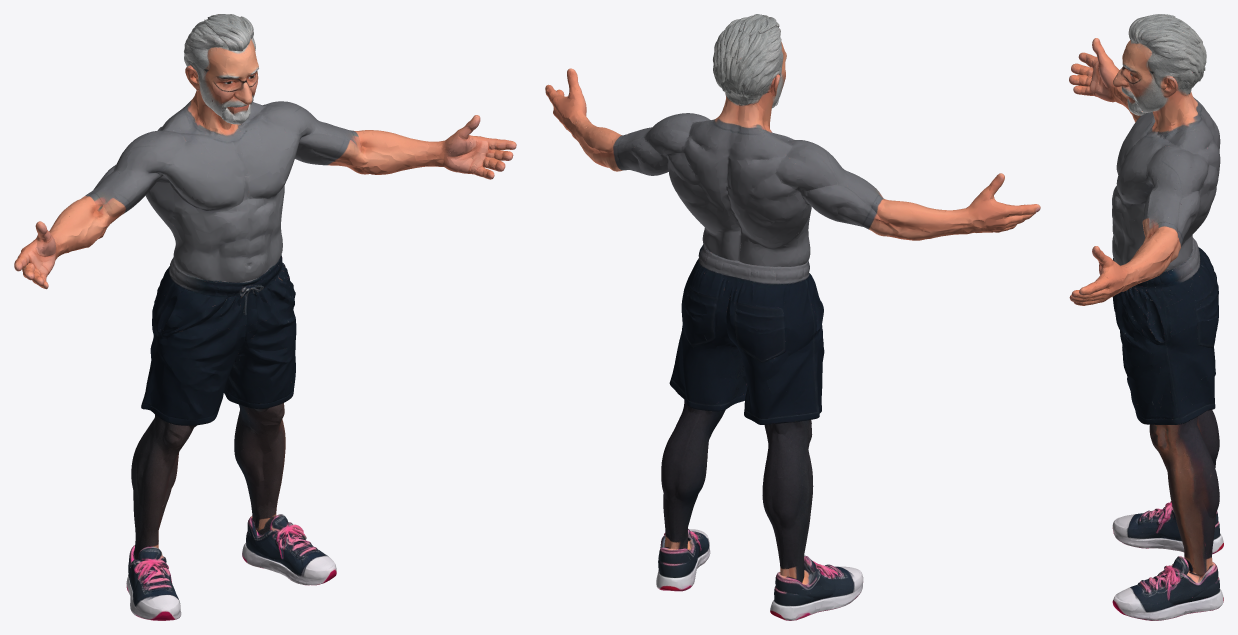
File: dad.glb
The picture shows the model from 3 angles, left to right: view 1: azimuth 30°, elevation 25°; view 2: azimuth 150°, elevation 25°; view 3: azimuth 270°, elevation 25°; orthographic projection. The views are drawn at different scales.
Bounding box in the file's own units: 1.74 × 1.9 × 0.4771.
1 material, 1 textured.
